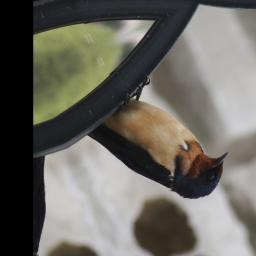Swallow: (71, 56, 243, 234)
